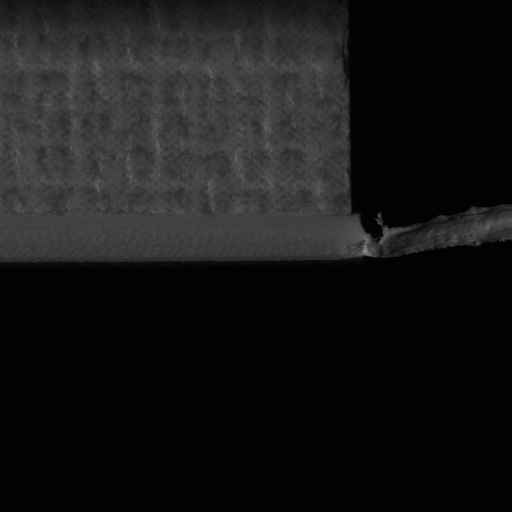changdai: (348, 207, 511, 262)
